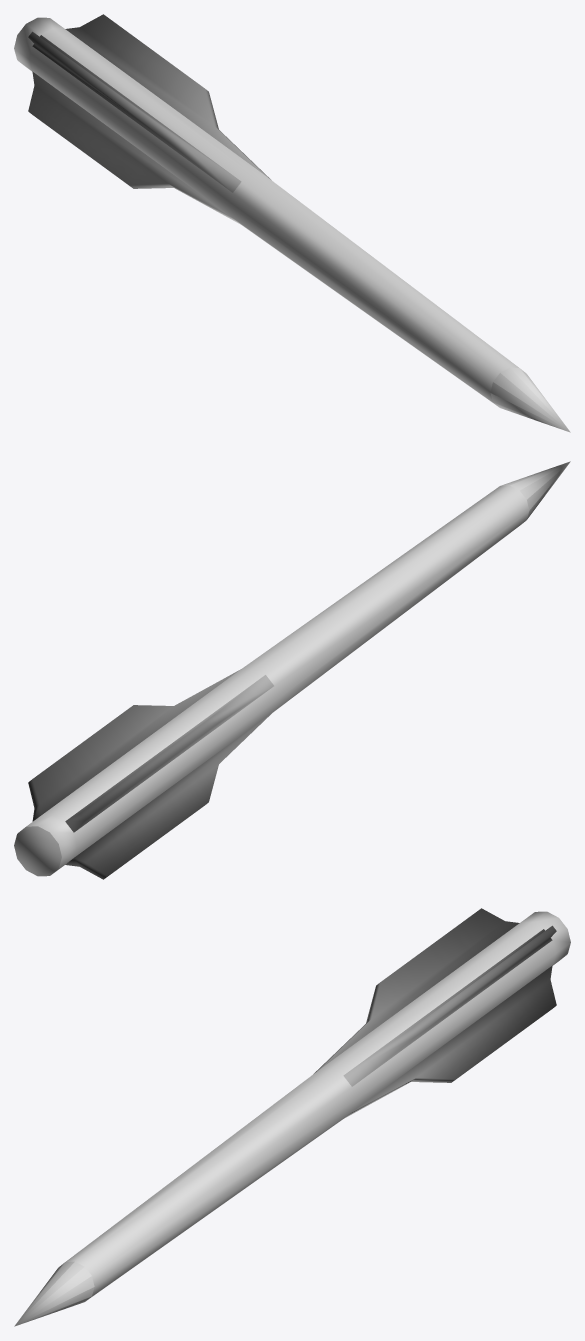
The model's file is sam1.fbx.
3 renders of one model, top to bottom at view 1: azimuth 30°, elevation 25°; view 2: azimuth 150°, elevation 25°; view 3: azimuth 330°, elevation 25°, orthographic.
Visible parts, largest first — view 1: sam1; view 2: sam1; view 3: sam1.
Boxes of the visible parts, left/top/right/bottom form: sam1: left=14, top=14, right=570, bottom=432; sam1: left=14, top=461, right=570, bottom=879; sam1: left=14, top=908, right=570, bottom=1326.
Bounding box in the file's own units: 22.41 × 22.41 × 260.
